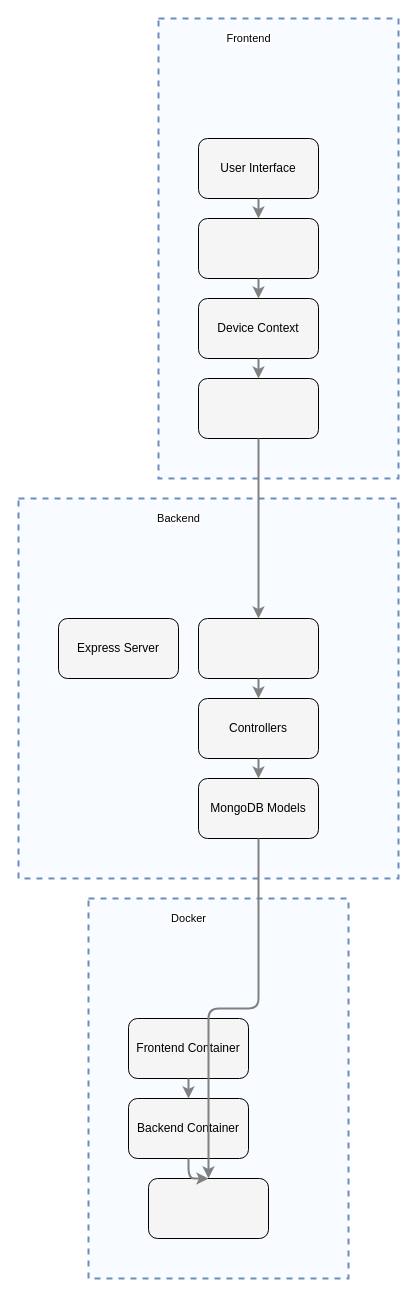
This 416x1296 diagram has some shape labels left out. The shapes that lost their labels are listed below. From the top down, each one's box as (x1, y1, x2, y2) in pixels, then its label:
(198, 218, 318, 278): React Components
(198, 378, 318, 438): API Service
(198, 618, 318, 678): API Routes
(148, 1178, 268, 1238): MongoDB Container
